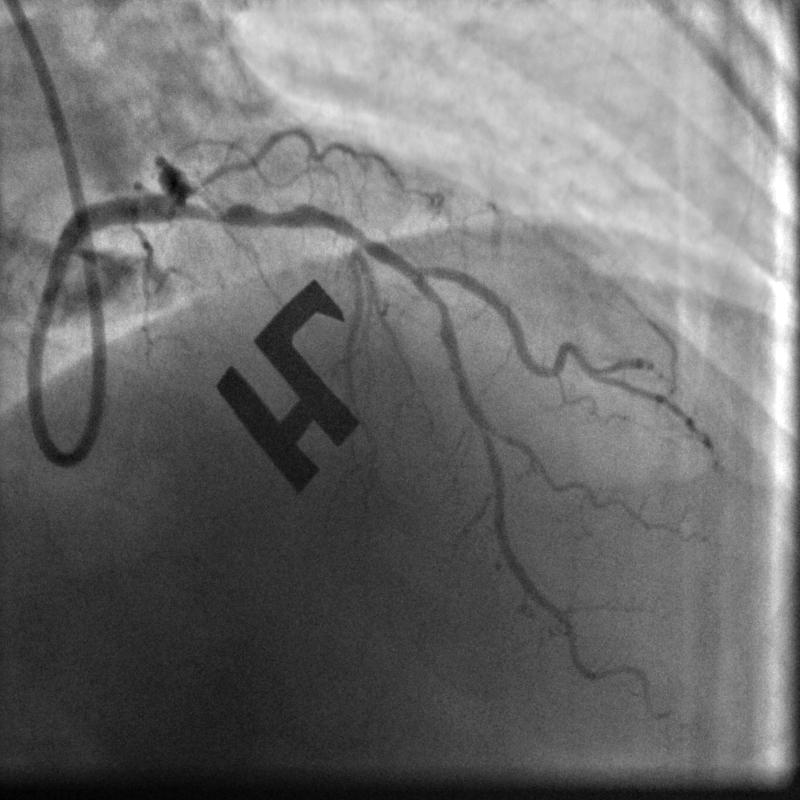Stenosis: (200, 192, 314, 228)
